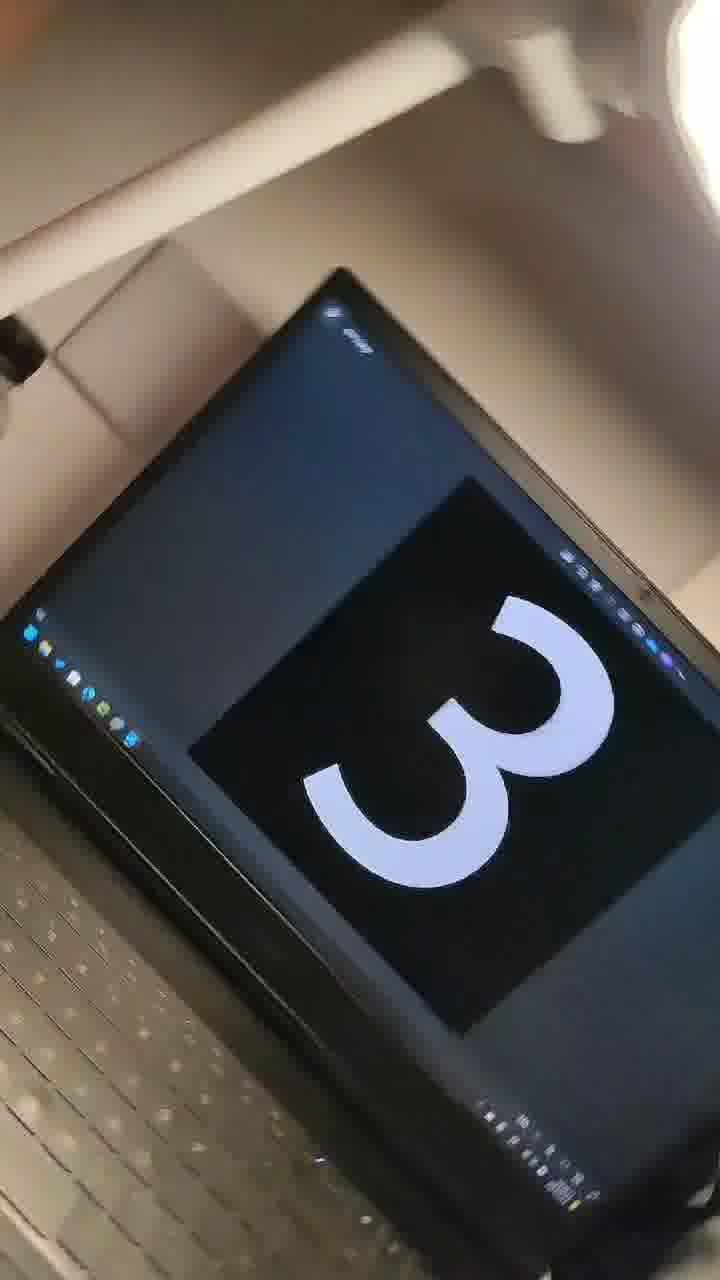three: (250, 483, 605, 931)
